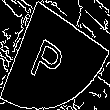P_NE: (34, 24, 76, 86)
